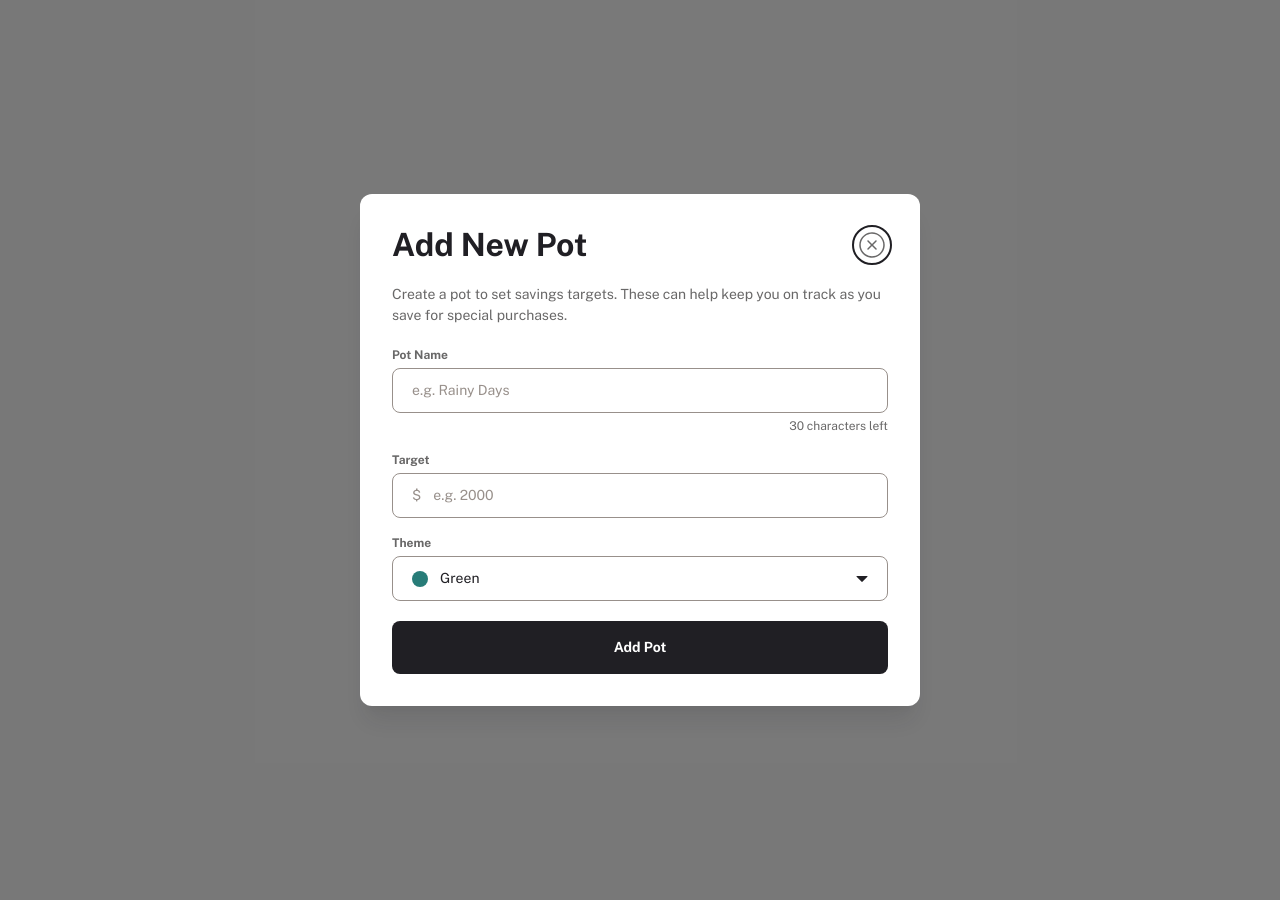
Test case: PotFormModal Component › Pot name › counts down the characters left
expect the text "30 characters left" is shown: met, box [789, 419, 888, 433]
Type "Holiday" into the field labelled "Pot Name" at (640, 391), box [392, 368, 888, 413]
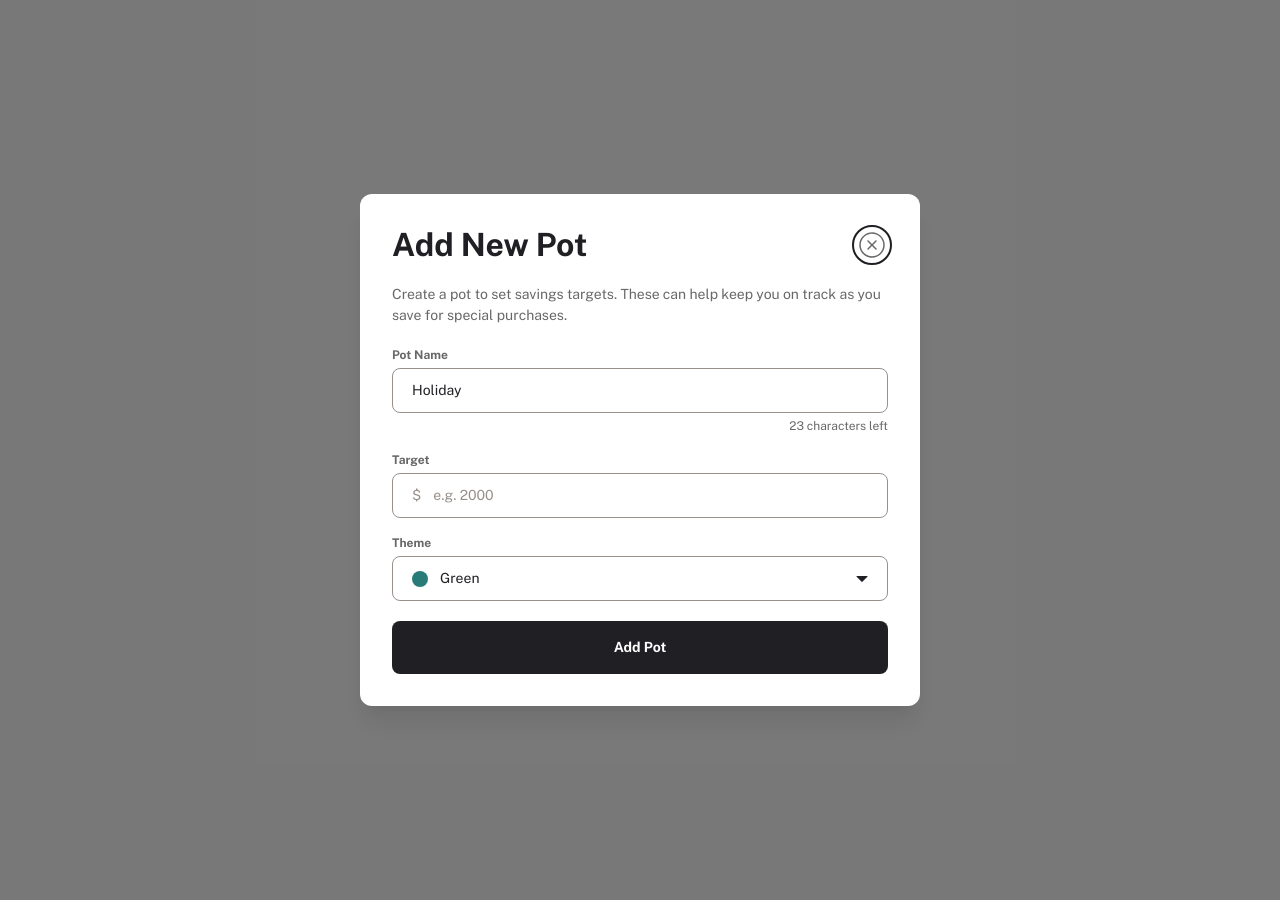
expect the text "23 characters left" is shown: met, box [789, 419, 888, 433]
